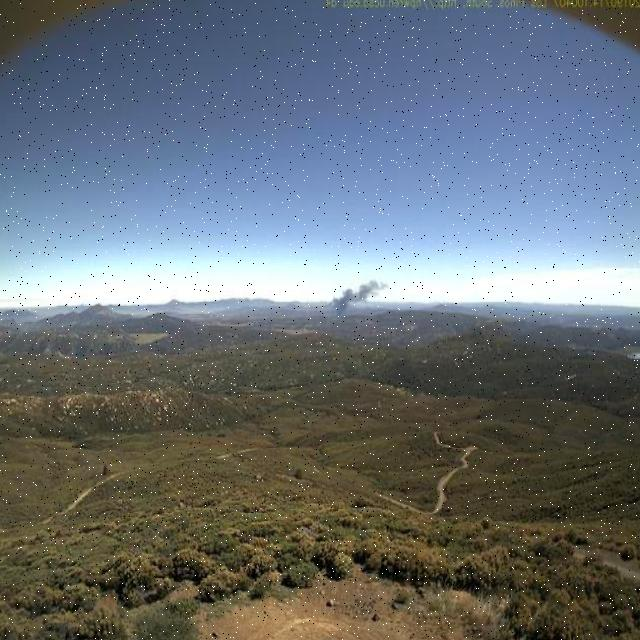smoke: (326, 274, 392, 321)
